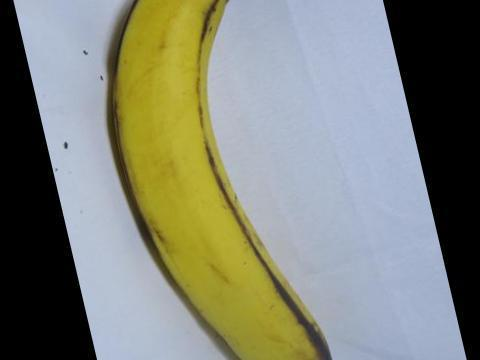ripe: (90, 0, 344, 359)
